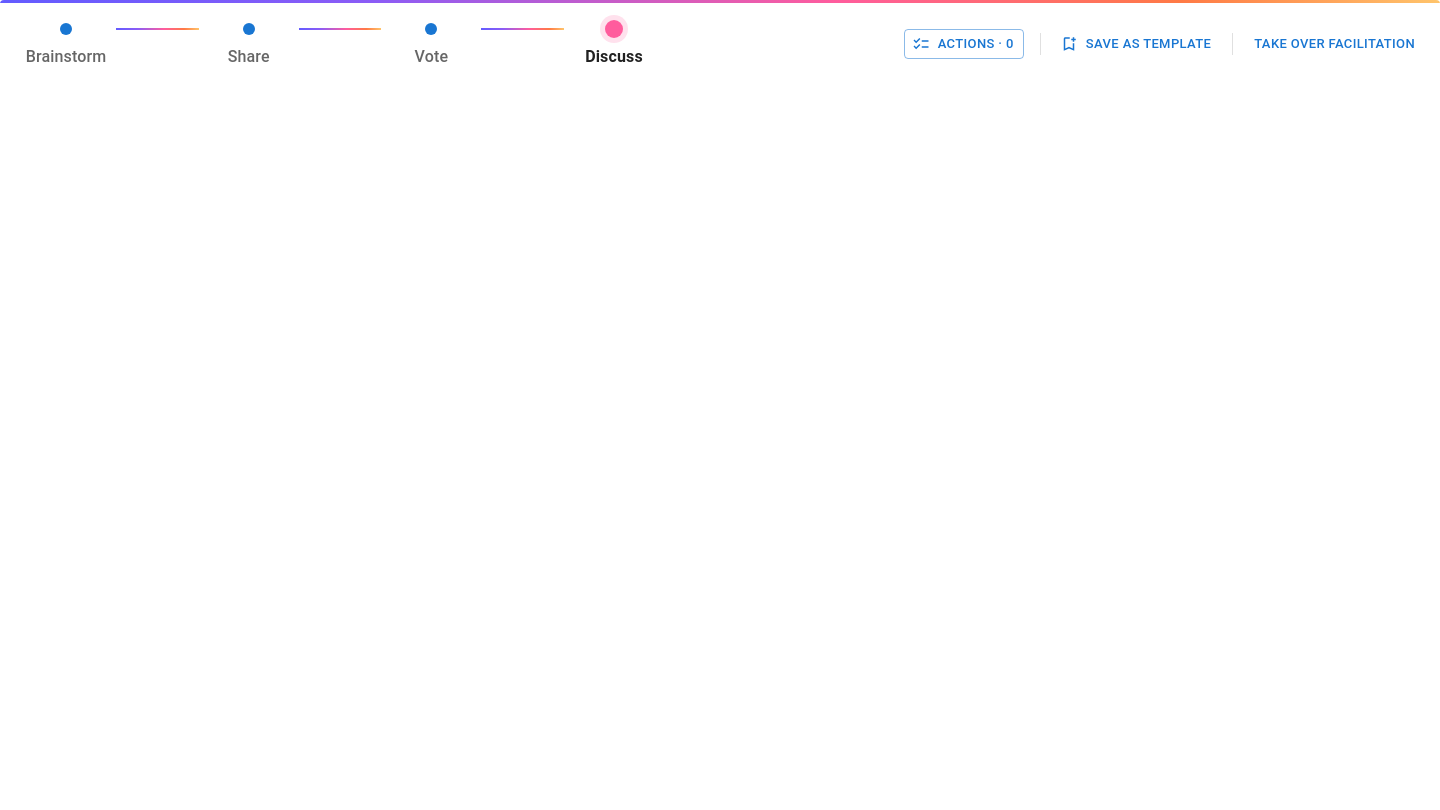
Test: BoardToolbar save as template › suffixes the prefilled name when the team already has a template with it
The width and height of the screenshot is (1440, 810).
Click the button "Save as template": (1137, 44) [1057,29,1216,59]
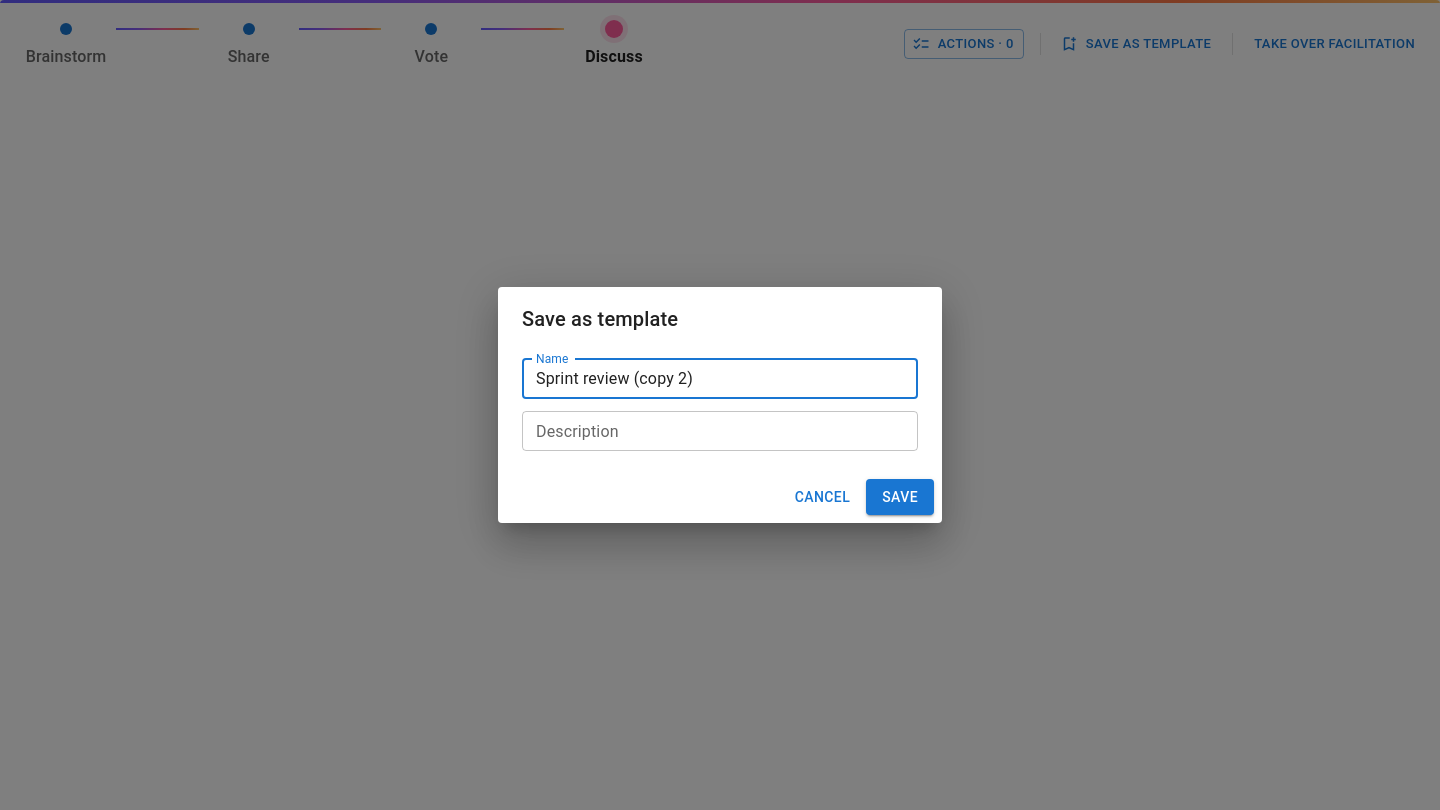
expect the field labelled "Name" holds "Sprint review (copy 2)": met, box [522,359,918,399]
